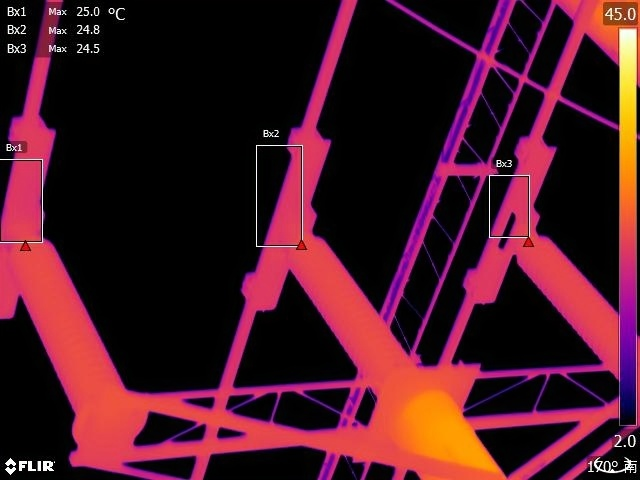post insulator: (10, 232, 139, 418), (512, 232, 640, 395), (293, 235, 425, 387)
